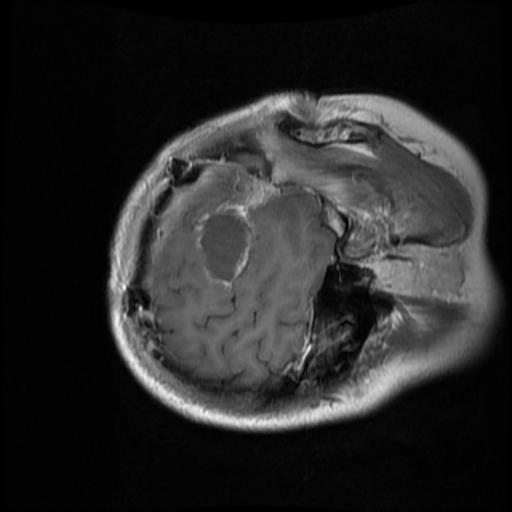glioma: (195, 200, 252, 290)
